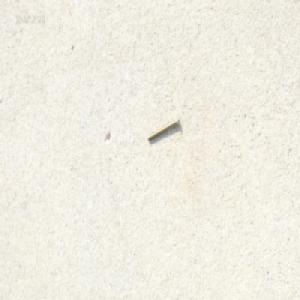Bolt: (146, 115, 179, 142)
